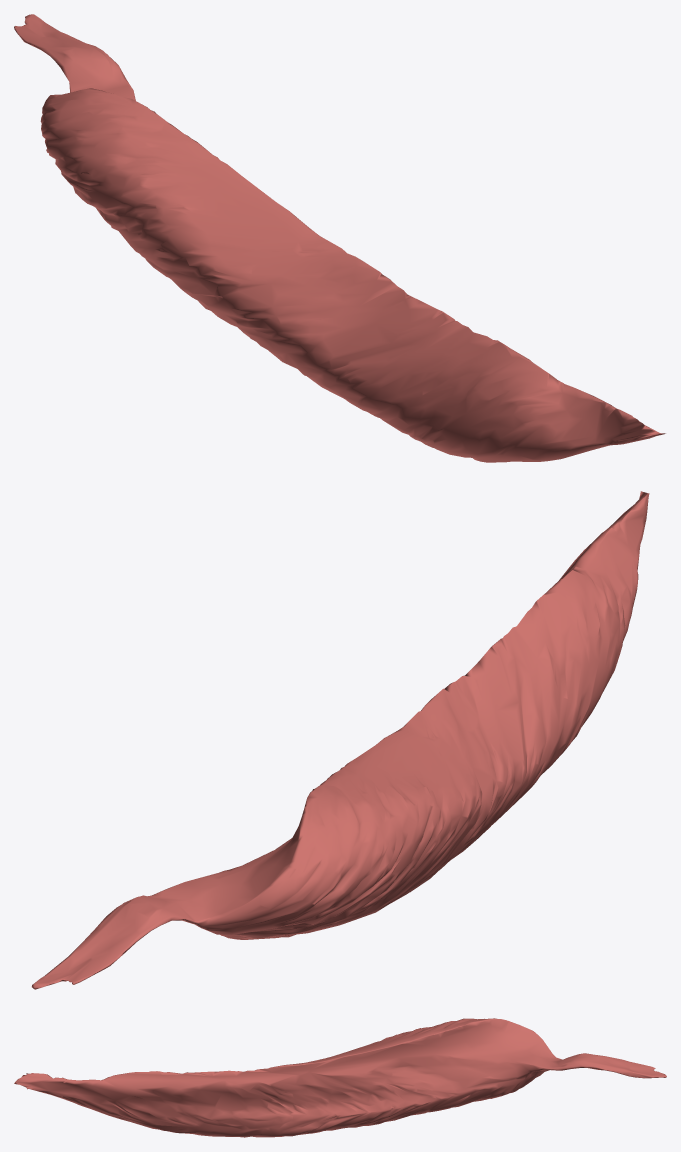
The picture shows the model from 3 angles, top to bottom: view 1: azimuth 30°, elevation 25°; view 2: azimuth 150°, elevation 25°; view 3: azimuth 270°, elevation 25°; orthographic projection. The views are drawn at different scales.
Parts seen in each view (by area): view 1: 左侧股内侧肌; view 2: 左侧股内侧肌; view 3: 左侧股内侧肌.
Boxes of the visible parts, x1,y1,x2,y2 form: 左侧股内侧肌: [14, 14, 665, 462]; 左侧股内侧肌: [31, 491, 649, 989]; 左侧股内侧肌: [14, 1018, 666, 1137].
Size of the model in its own units: 0.1055 by 0.1009 by 0.601.
